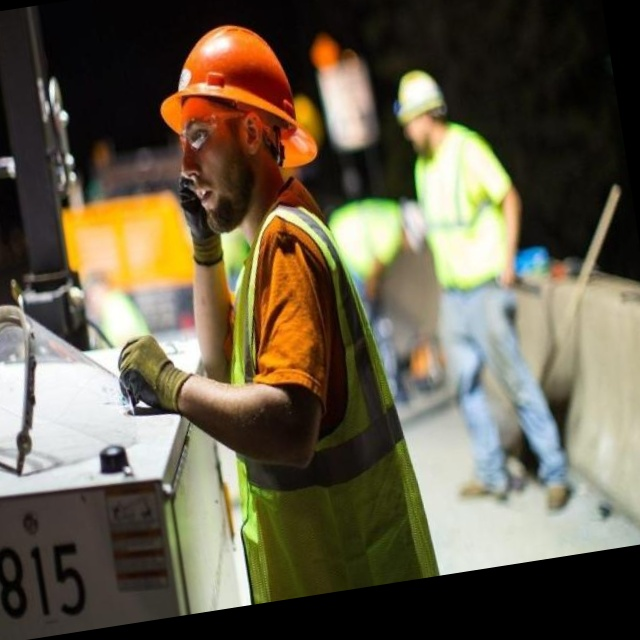Con_Casco: (152, 11, 308, 222)
Con_Chaleco: (186, 194, 438, 596)
